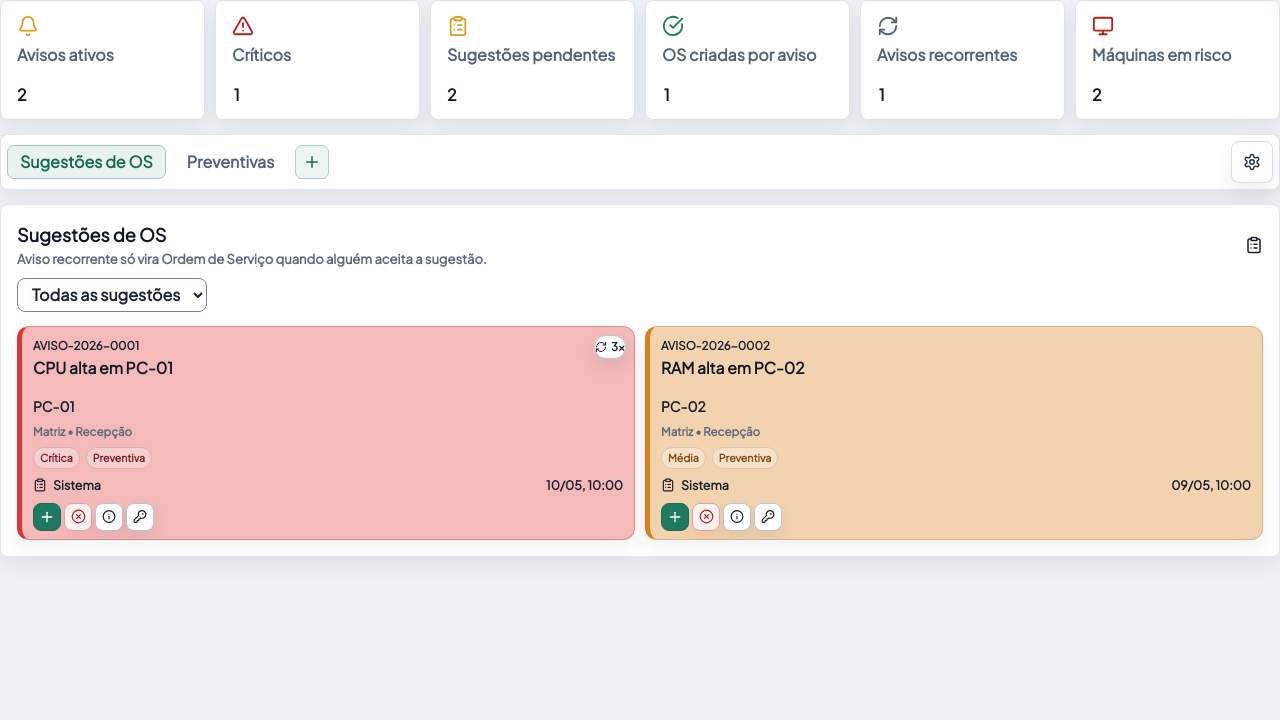
Scenario: Preventivas - etapa 1 (seleção de máquinas) › agrupa máquinas por grupo e segmento e resume o status preventivo
The image size is (1280, 720).
Click the button "Preventivas" at coordinates (231, 162), box [174,145,287,179]
(page scrolled)
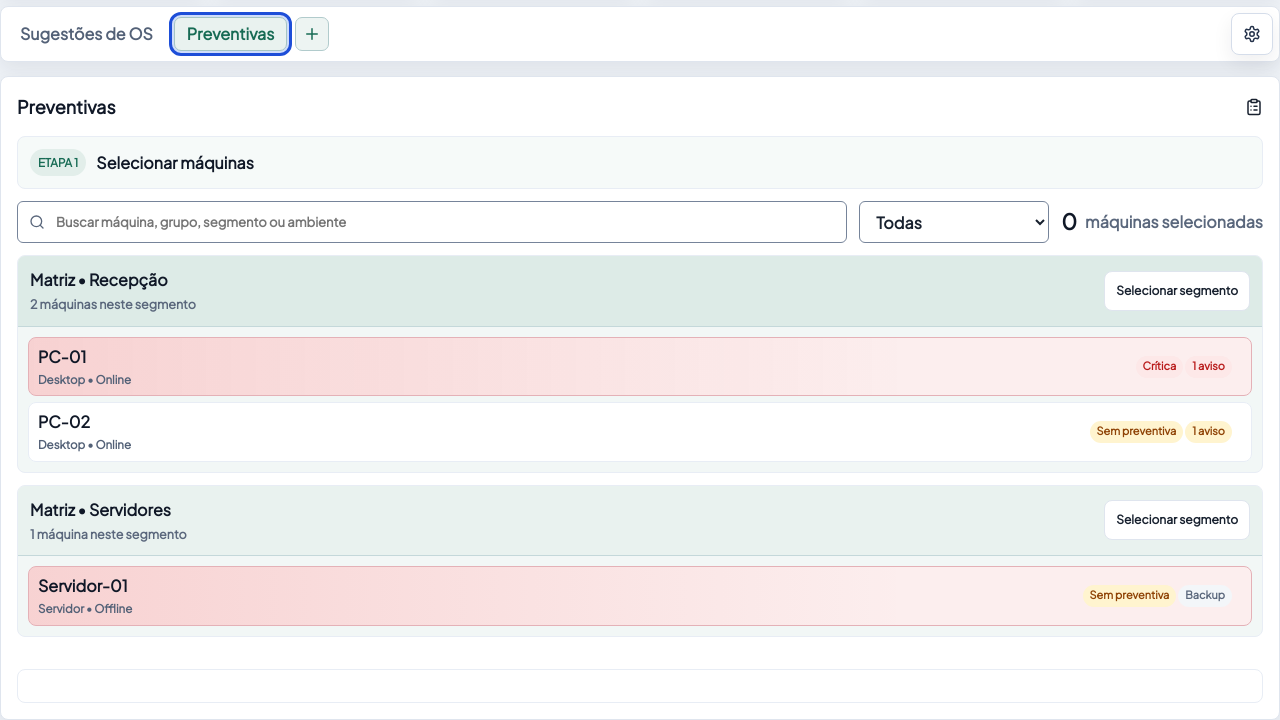
Result: the text "Matriz • Servidores" is shown at [30,498,187,522]
Result: the text "2 máquinas neste segmento" is shown at [30,295,196,314]
Result: the text "1 máquina neste segmento" is shown at [30,524,187,543]
